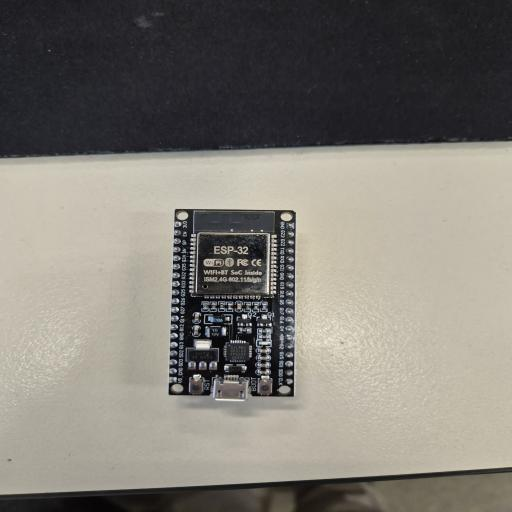esp32-dev: (172, 206, 298, 398)
